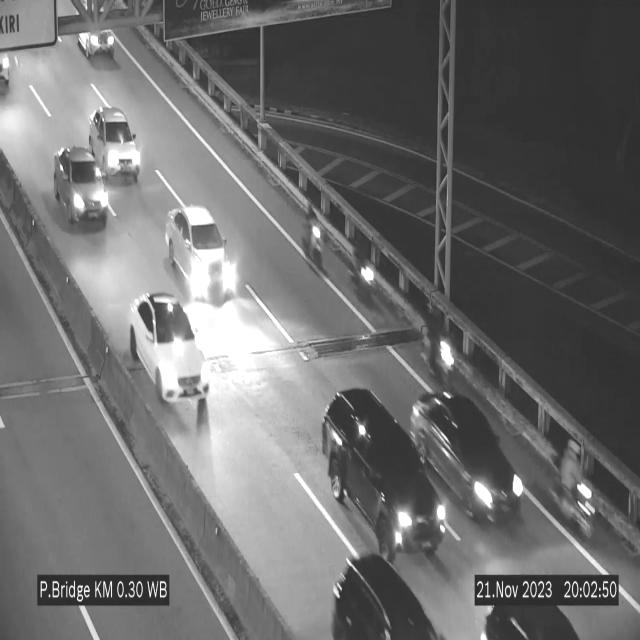Car: (316, 385, 446, 563), (417, 393, 525, 532), (320, 543, 460, 640), (130, 294, 208, 401), (166, 206, 242, 302), (472, 579, 579, 640), (48, 142, 114, 228), (89, 106, 141, 181), (76, 12, 122, 59)
Motorcycle: (558, 434, 595, 544), (423, 300, 453, 385), (348, 225, 377, 310), (298, 192, 324, 270)
